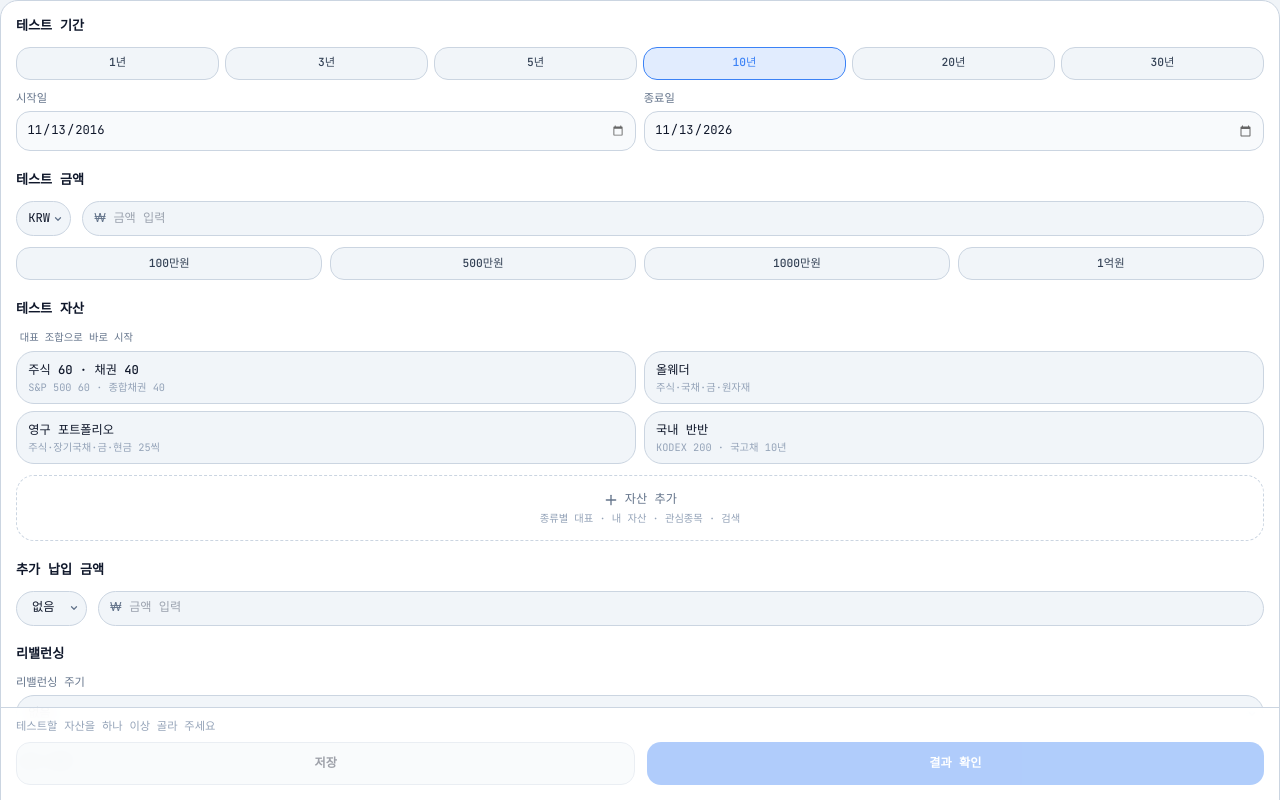
Test: 가져온 비중이 **자산을 더해도 살아남는다** › 0% 인 자산이 있으면 **결과에 안 들어간다고 적는다**
Click the button labelled "자산 추가 종류별 대표 · 내 자산 · 관심종목 · 검색".
click(640, 508)  # box x1=16 y1=475 x2=1264 y2=541
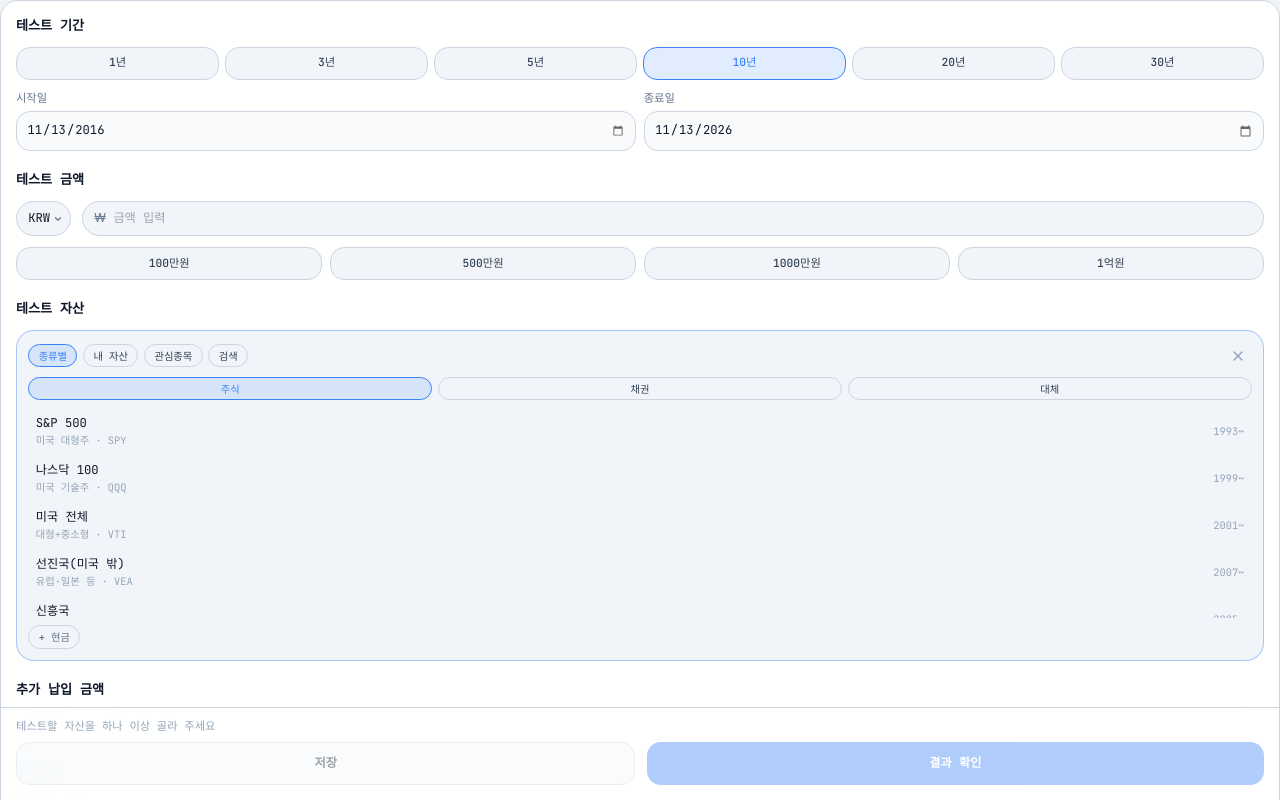
Click the button with aria-label "내 자산에서".
click(111, 356)  # box x1=83 y1=344 x2=138 y2=367
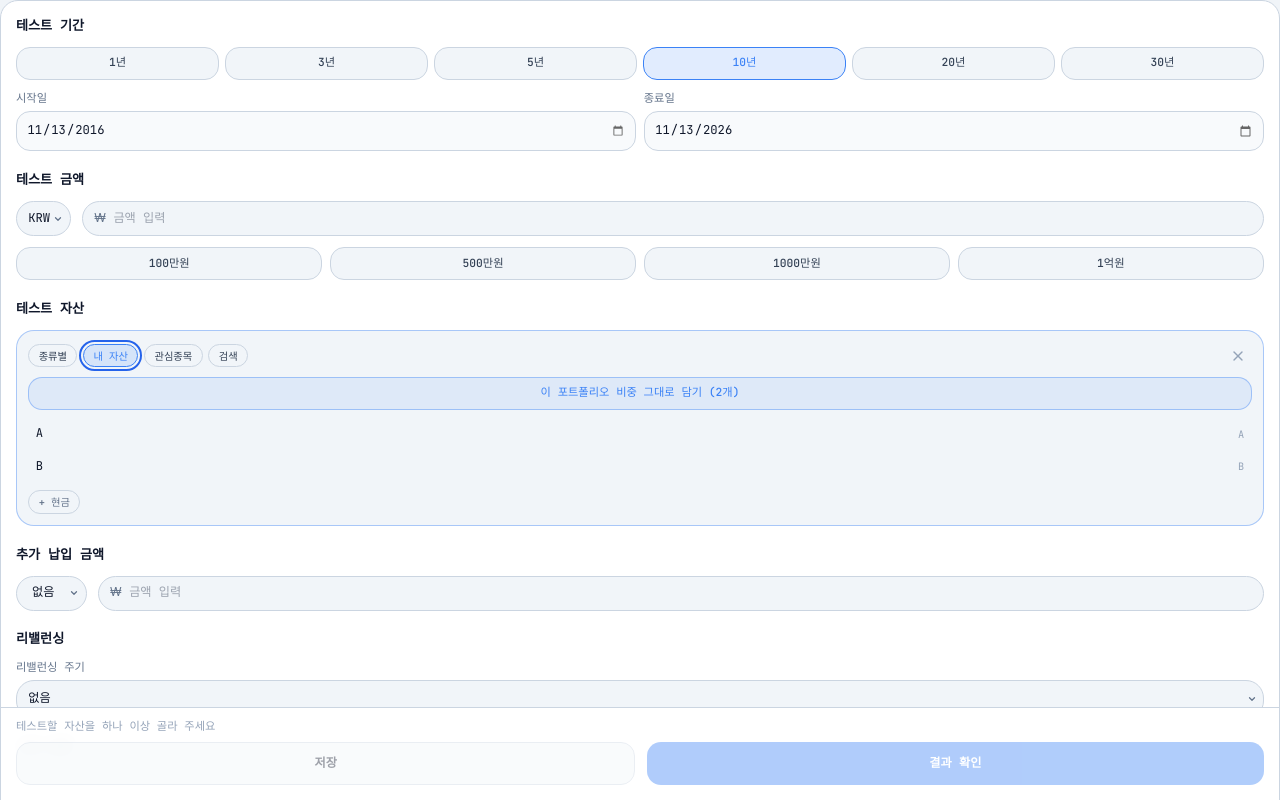
Click the button with aria-label "이 포트폴리오를 비중 그대로 담기".
click(640, 393)  # box x1=28 y1=377 x2=1252 y2=410
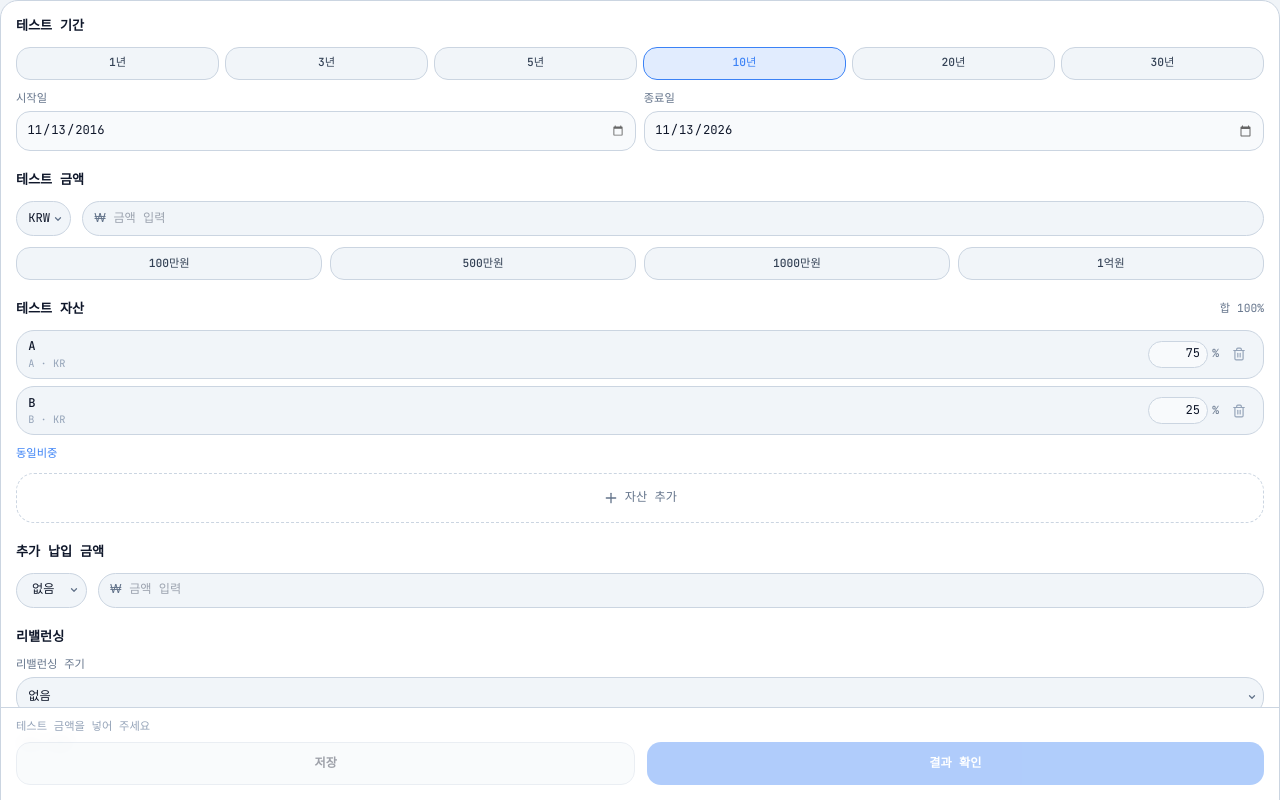
Click the button labelled "자산 추가".
click(640, 498)  # box x1=16 y1=473 x2=1264 y2=523
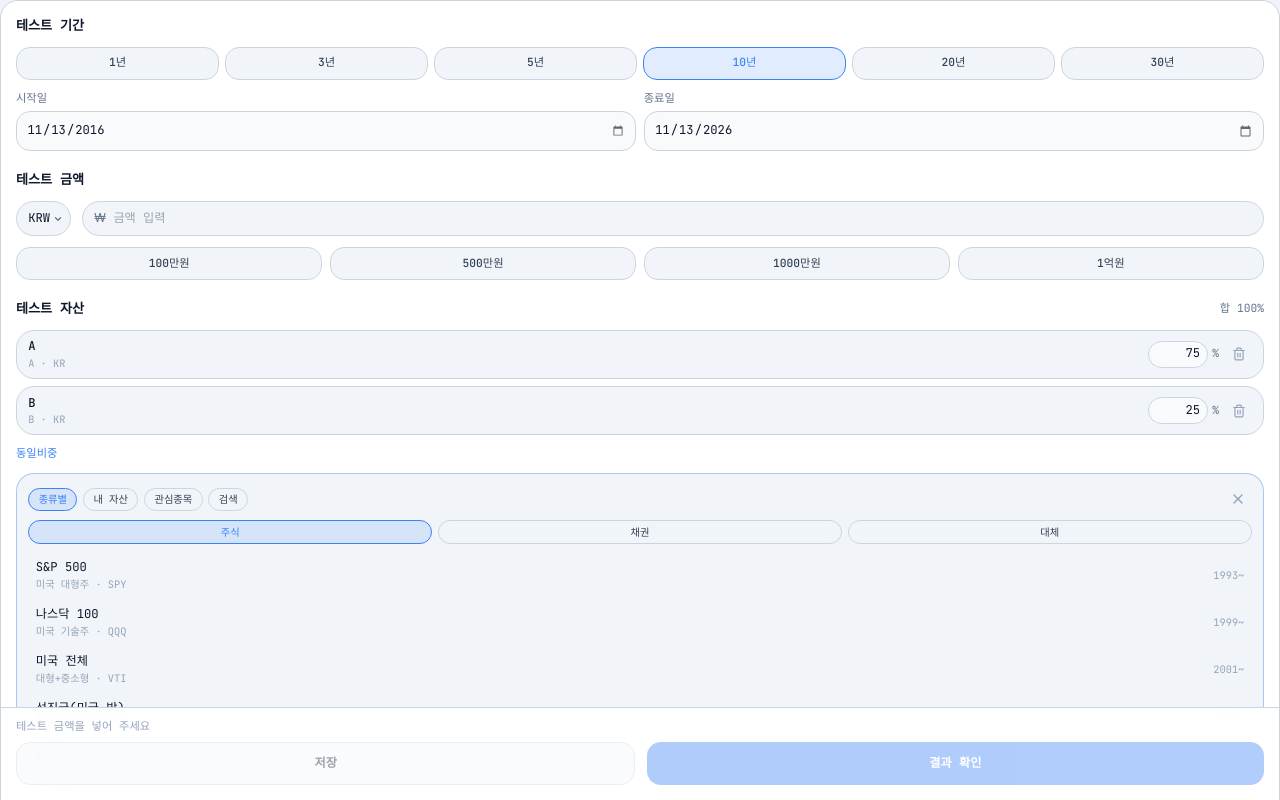
Click the button with aria-label "검색해서".
click(228, 499)  # box x1=208 y1=488 x2=248 y2=511
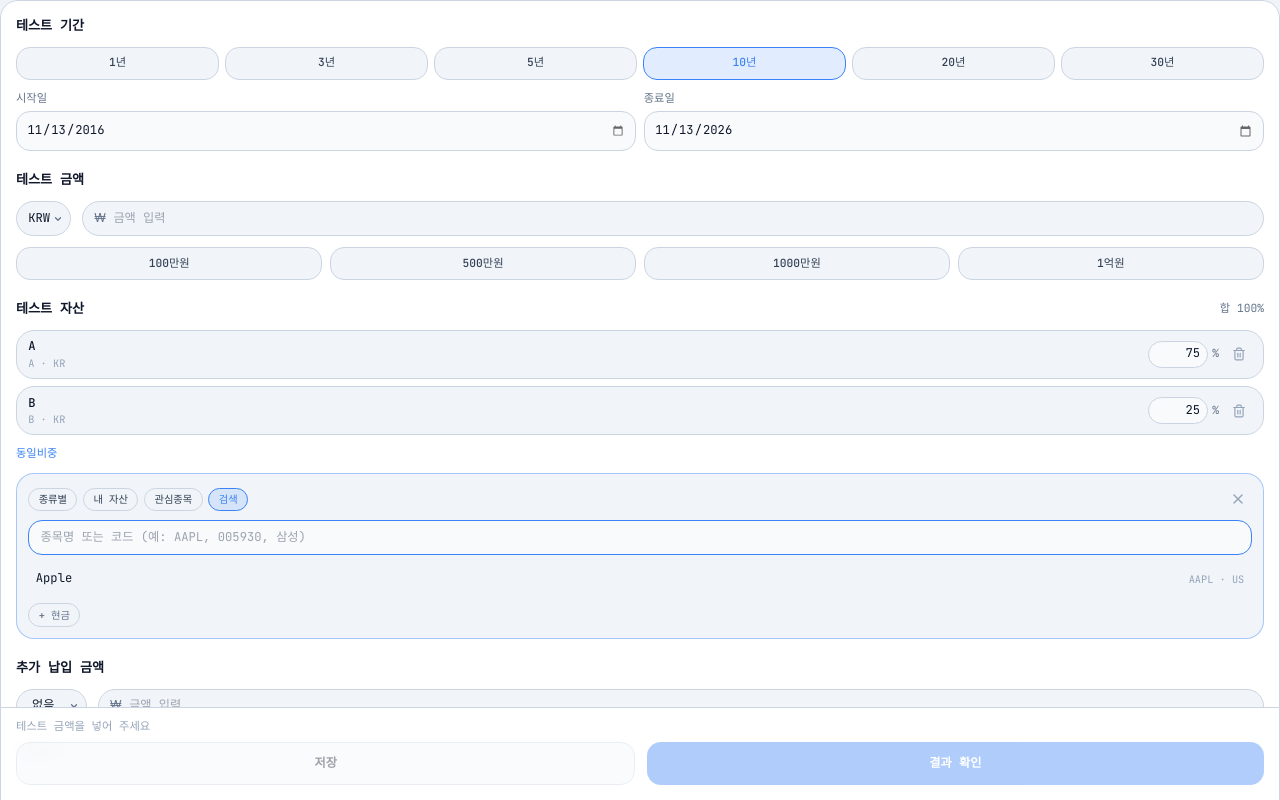
Click the button with aria-label "Apple 담기".
click(54, 578)  # box x1=28 y1=563 x2=1252 y2=596
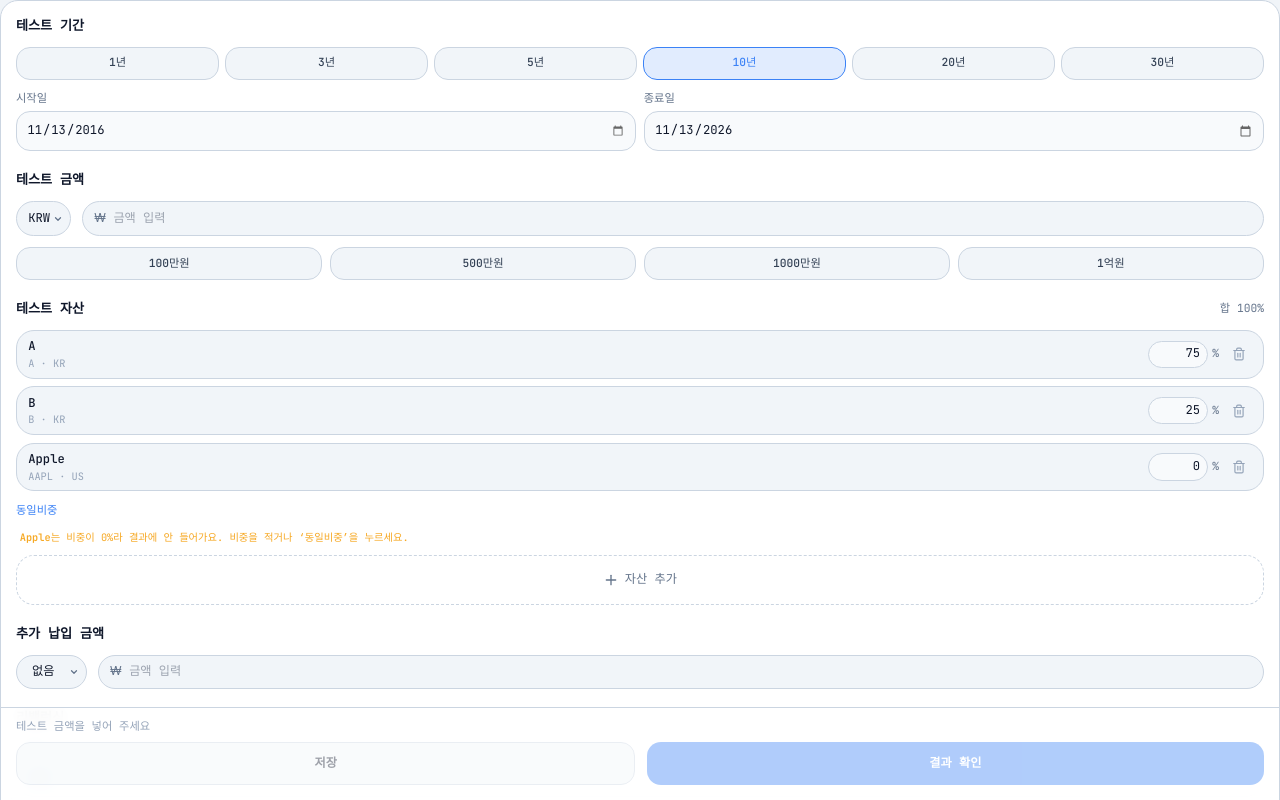
Check: the text "비중이 0%라 결과에 안 들어가요" shows "Apple", box x1=20 y1=530 x2=51 y2=544
